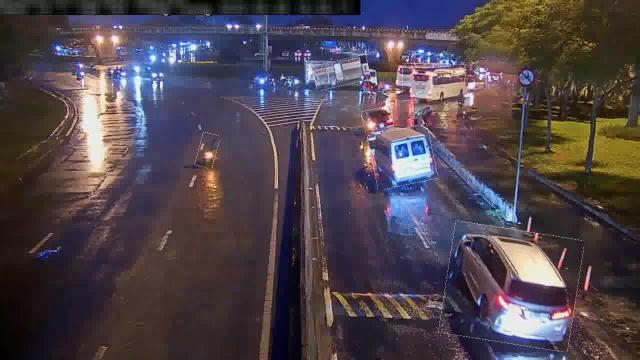Bike: (196, 132, 218, 168)
Bus: (369, 126, 435, 188), (402, 63, 468, 101)
Car: (442, 224, 580, 347), (362, 107, 393, 133)
Truck: (314, 57, 371, 88)
